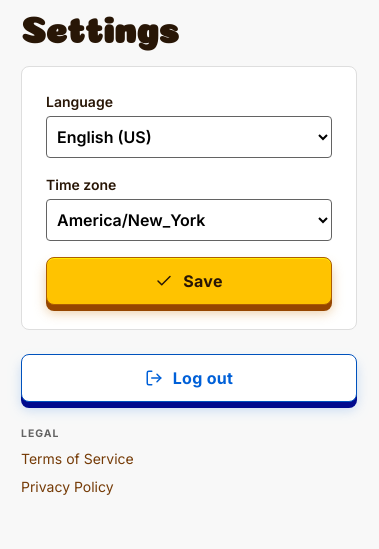
Test: Settings › shows error alert on failed save
Click the button "Save" at (189, 281), box [46,257,332,305]
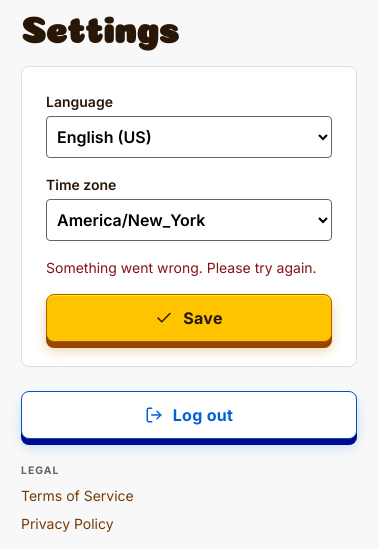
Now the message "Something went wrong. Please try again." is shown, box [46,257,332,278]
